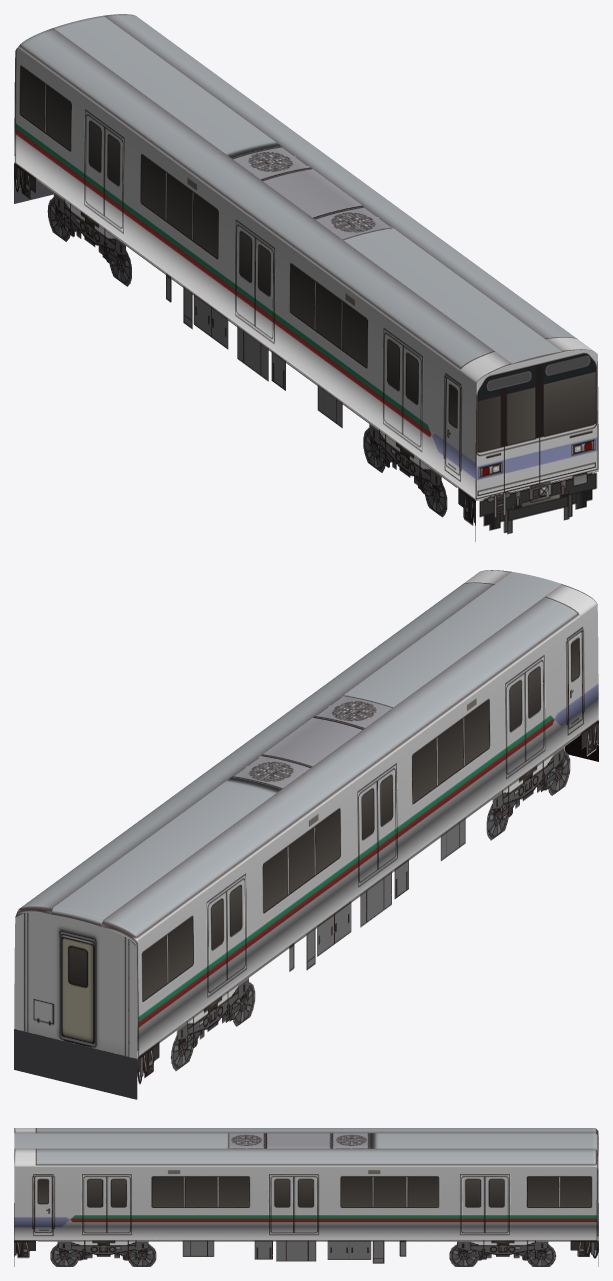
Rendered from car1.glb.
3 renders of one model, top to bottom at view 1: azimuth 30°, elevation 25°; view 2: azimuth 150°, elevation 25°; view 3: azimuth 270°, elevation 25°, orthographic. The views are drawn at different scales.
Parts seen in each view (by area): view 1: jomo-800-car1; view 2: jomo-800-car1; view 3: jomo-800-car1.
Part boxes in pixels (x1=…): jomo-800-car1: x1=14, y1=14, x2=598, y2=541; jomo-800-car1: x1=14, y1=570, x2=598, y2=1099; jomo-800-car1: x1=14, y1=1128, x2=598, y2=1266.
Bounding box in the file's own units: 2.78 × 3.67 × 18.07.
Materials: 8 (7 with a texture image).
